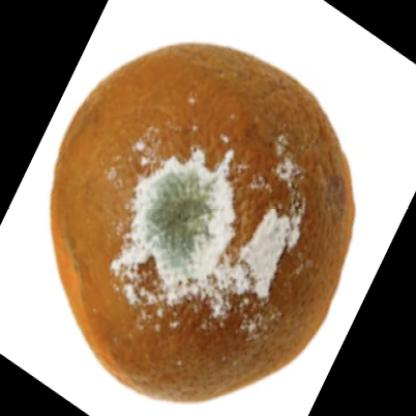rotten: (51, 44, 355, 401)
